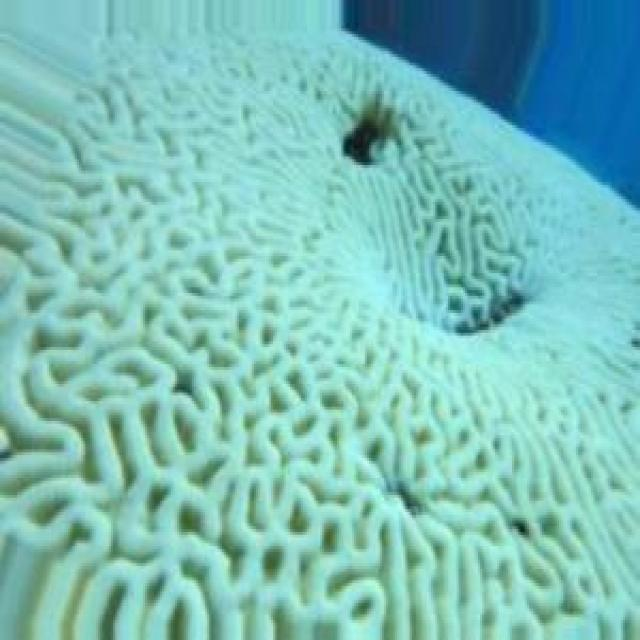Bleached: (1, 35, 639, 638)
